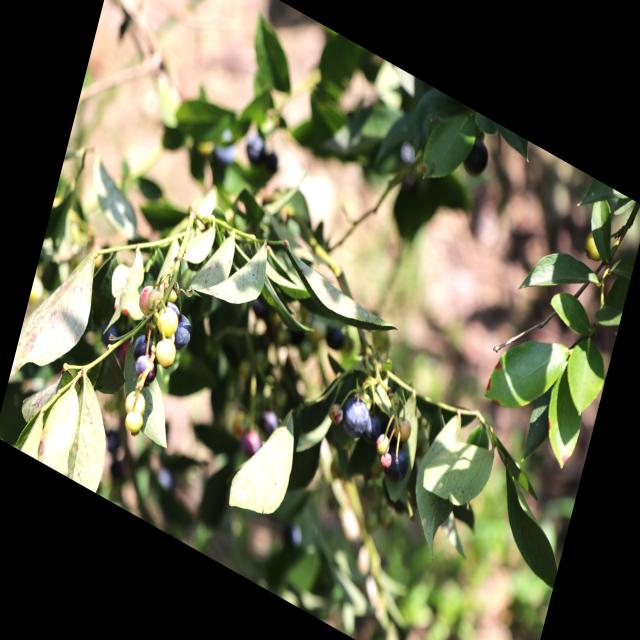blueberry: (338, 393, 373, 445), (379, 443, 414, 489), (168, 311, 196, 353), (133, 351, 159, 386), (364, 413, 386, 448), (131, 329, 154, 358)
blueberry-halfripe: (133, 280, 159, 326)
blueberry-unripe: (153, 300, 182, 340), (152, 332, 180, 373), (120, 385, 148, 421), (122, 405, 147, 441)
